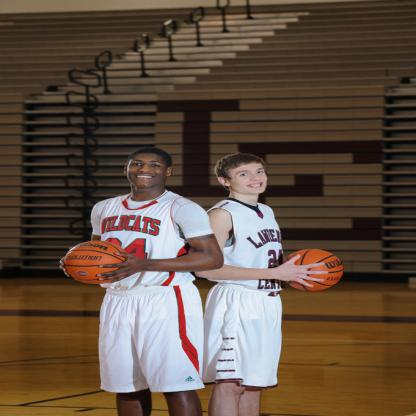Ball: (65, 240, 122, 284), (282, 249, 342, 290)
